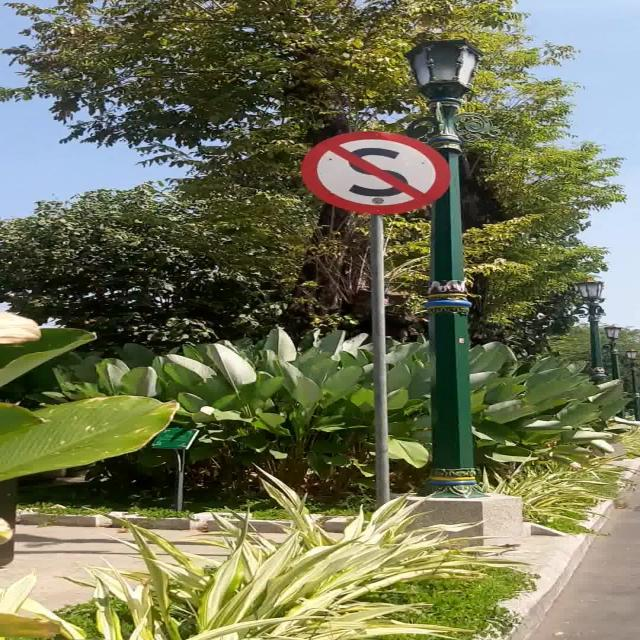Dilarang Berhenti: (302, 131, 451, 214)
